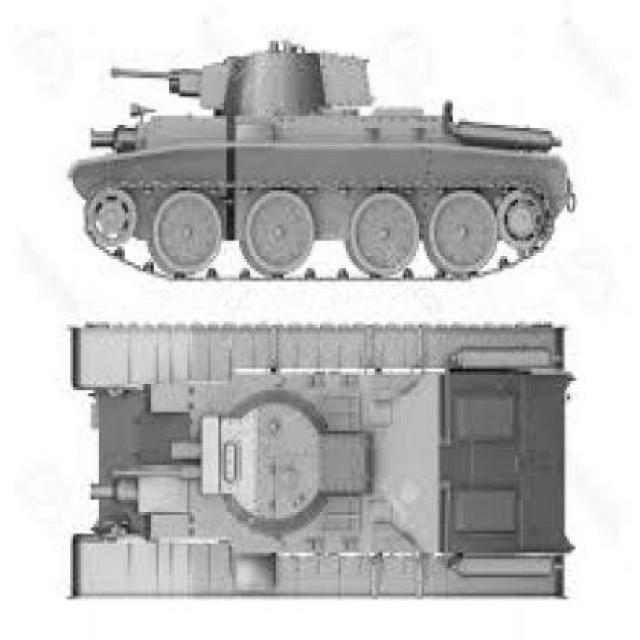tank: (69, 320, 568, 597), (67, 41, 576, 282)
